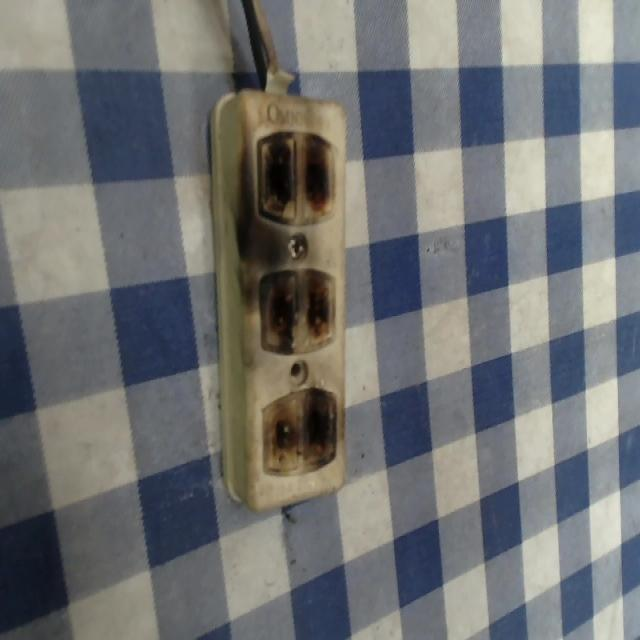-: (252, 125, 339, 224), (254, 266, 341, 358), (256, 385, 341, 468)
